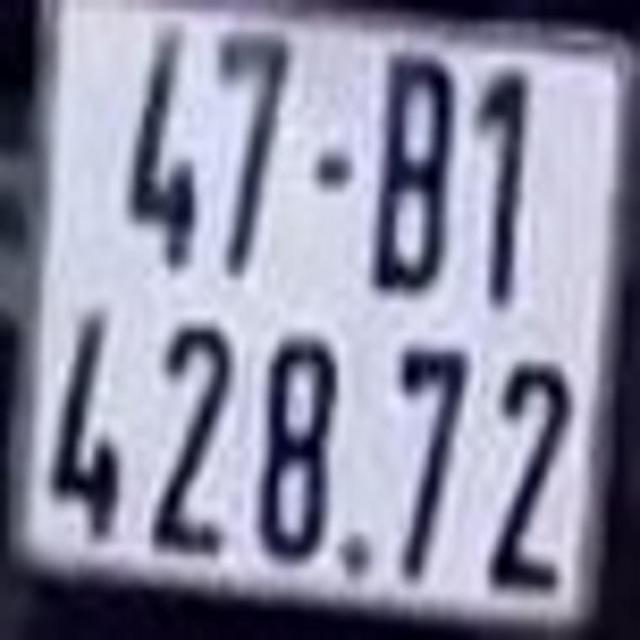1: (474, 66, 532, 312)
2: (150, 315, 232, 560), (488, 354, 567, 592)
4: (128, 18, 205, 273), (46, 300, 124, 543)
7: (386, 332, 474, 592), (213, 22, 294, 284)
8: (258, 329, 332, 569)
B: (376, 45, 452, 296)
